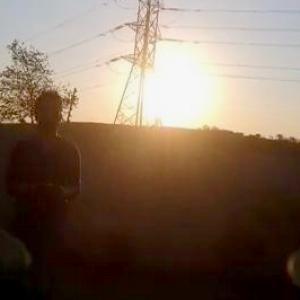follow: (0, 81, 85, 299)
